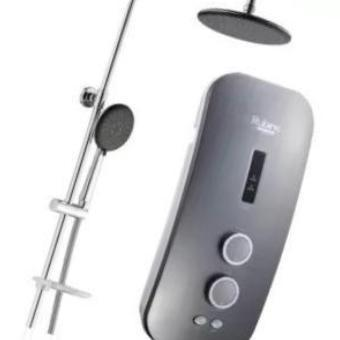Ducha: (21, 0, 326, 340)
